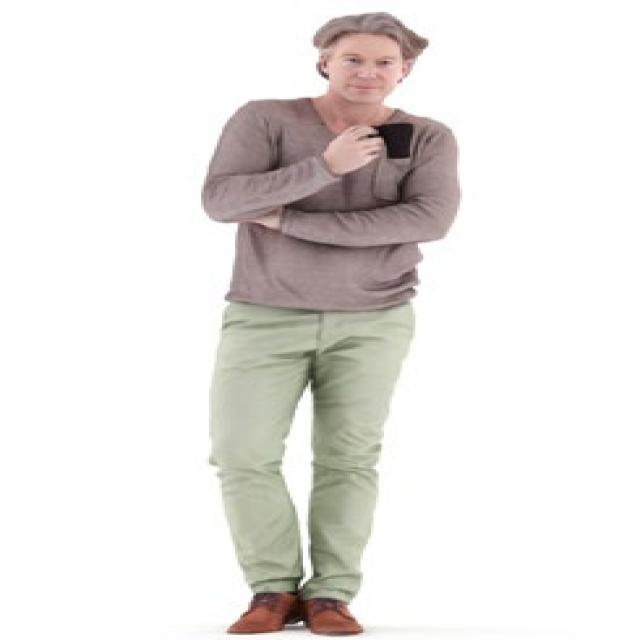standing: (195, 7, 468, 640)
